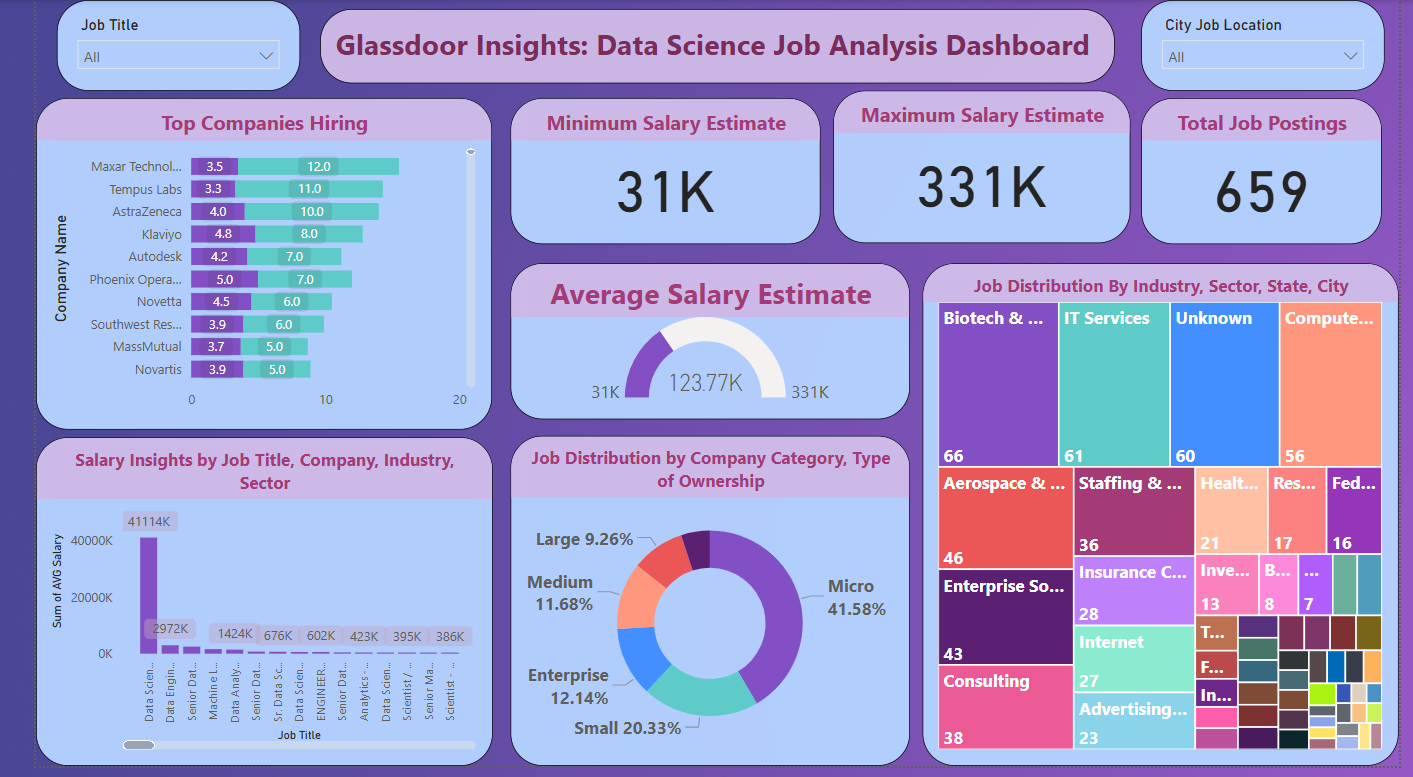

The dashboard page shown, as its layout file describes it:
{"tool":"powerbi","page":{"name":"Dashboard","canvas":[1280,720],"ordinal":0},"visuals":[{"type":"clusteredColumnChart","title":"Salary Insights by Job Title, Company, Industry, Sector","fields":{"Category":["Uncleaned_DS_jobs1.Job Title","Uncleaned_DS_jobs1.Company Name","Uncleaned_DS_jobs1.Company Category","Uncleaned_DS_jobs1.Industry","Uncleaned_DS_jobs1.Sector"],"Y":["Sum(Uncleaned_DS_jobs1.AVG Salary)"]},"box":[0,410.7,428.8,308.7],"z":0},{"type":"donutChart","title":"Job Distribution by Company Category, Type of Ownership","fields":{"Y":["CountNonNull(Uncleaned_DS_jobs1.Job Title)"],"Category":["Uncleaned_DS_jobs1.Company Category","Uncleaned_DS_jobs1.Type of ownership"]},"box":[445.3,409.5,375.2,309.8],"z":1000},{"type":"textbox","box":[266.8,8.4,745.9,69.8],"z":2000},{"type":"card","title":"Maximum Salary Estimate","fields":{"Values":["Max(Uncleaned_DS_jobs1.MAX Salary)"]},"box":[748.9,85.6,278.7,143.2],"z":3000},{"type":"gauge","title":"Average Salary Estimate","fields":{"MinValue":["Min(Uncleaned_DS_jobs1.MIN Salary)"],"MaxValue":["Max(Uncleaned_DS_jobs1.MAX Salary)"],"Y":["Avg(Uncleaned_DS_jobs1.AVG Salary)"]},"box":[445.3,247.6,375.2,146.4],"z":4000},{"type":"treemap","title":"Job Distribution By Industry, Sector, State, City","fields":{"Values":["CountNonNull(Uncleaned_DS_jobs1.Job Title)"],"Group":["Uncleaned_DS_jobs1.Industry","Uncleaned_DS_jobs1.Sector","Uncleaned_DS_jobs1.State Job Location","Uncleaned_DS_jobs1.City Job Location"]},"box":[832.5,247.2,447,472.1],"z":5000},{"type":"slicer","fields":{"Values":["Uncleaned_DS_jobs1.Job Title"]},"box":[20.2,0,228.9,85.6],"z":6000},{"type":"slicer","fields":{"Values":["Uncleaned_DS_jobs1.City Job Location"]},"box":[1038.5,0,228.9,85.6],"z":7000},{"type":"barChart","title":"Top Companies Hiring","fields":{"Category":["Uncleaned_DS_jobs1.Company Name"],"Y":["Max(Uncleaned_DS_jobs1.Rating)","CountNonNull(Uncleaned_DS_jobs1.Job Title)"]},"box":[0,91.9,428.2,311.4],"z":8000},{"type":"card","title":"Total Job Postings","fields":{"Values":["CountNonNull(Uncleaned_DS_jobs1.Job Title)"]},"box":[1038.5,91.9,225.8,137],"z":9000},{"type":"card","title":"Minimum Salary Estimate","fields":{"Values":["Min(Uncleaned_DS_jobs1.MIN Salary)"]},"box":[445.3,91.9,291.2,137],"z":10000}]}

Visuals, with their boxes in screenshot pixels (x1, y1, x2, y2), scaled from the page's 1280x720 canvas onto the 1413x777 screenshot:
"Salary Insights by Job Title, Company, Industry, Sector" clusteredColumnChart: BBox(0, 443, 473, 776)
"Job Distribution by Company Category, Type of Ownership" donutChart: BBox(492, 442, 906, 776)
textbox: BBox(295, 9, 1118, 84)
"Maximum Salary Estimate" card: BBox(827, 92, 1134, 247)
"Average Salary Estimate" gauge: BBox(492, 267, 906, 425)
"Job Distribution By Industry, Sector, State, City" treemap: BBox(919, 267, 1412, 776)
slicer - Uncleaned_DS_jobs1.Job Title: BBox(22, 0, 275, 92)
slicer - Uncleaned_DS_jobs1.City Job Location: BBox(1146, 0, 1399, 92)
"Top Companies Hiring" barChart: BBox(0, 99, 473, 435)
"Total Job Postings" card: BBox(1146, 99, 1396, 247)
"Minimum Salary Estimate" card: BBox(492, 99, 813, 247)
